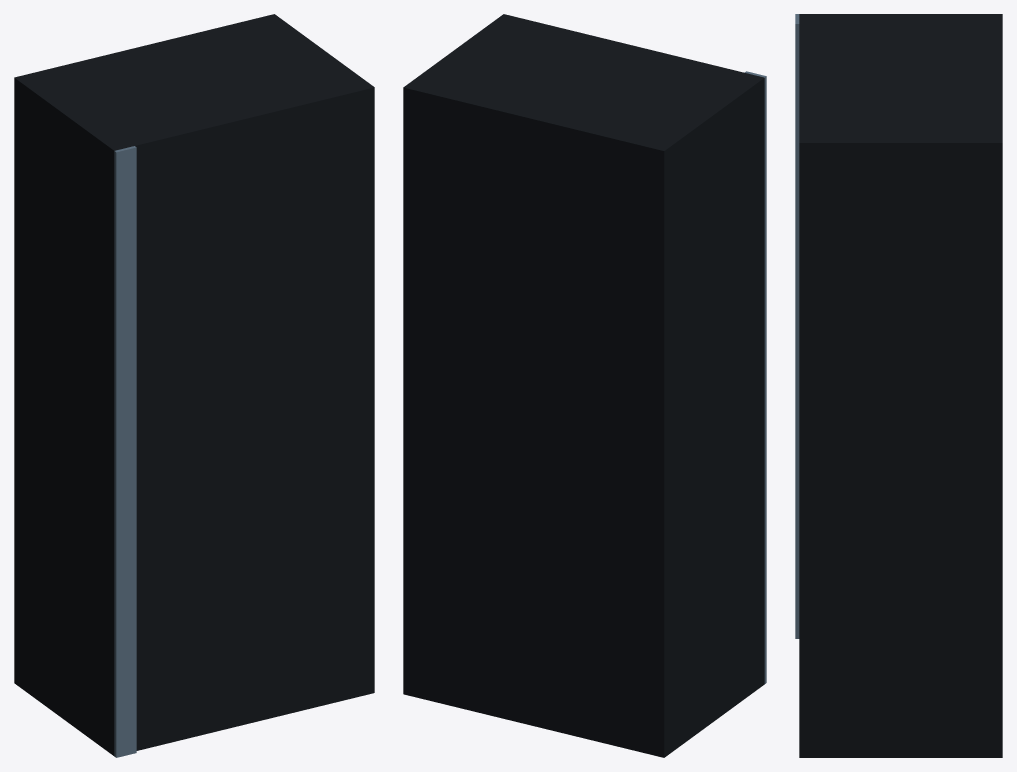
File: Hall_Column.gltf
3 views of the same model, side by side, from view 1: azimuth 30°, elevation 25°; view 2: azimuth 150°, elevation 25°; view 3: azimuth 270°, elevation 25° (orthographic).
Parts seen in each view (by area): view 1: Hall_Column_baked; view 2: Hall_Column_baked; view 3: Hall_Column_baked.
Part boxes in pixels (x1,y1,x2,y2): Hall_Column_baked: (14, 14, 374, 757); Hall_Column_baked: (403, 14, 766, 757); Hall_Column_baked: (795, 14, 1002, 757).
Size of the model in its own units: 0.45 by 1 by 0.306.
